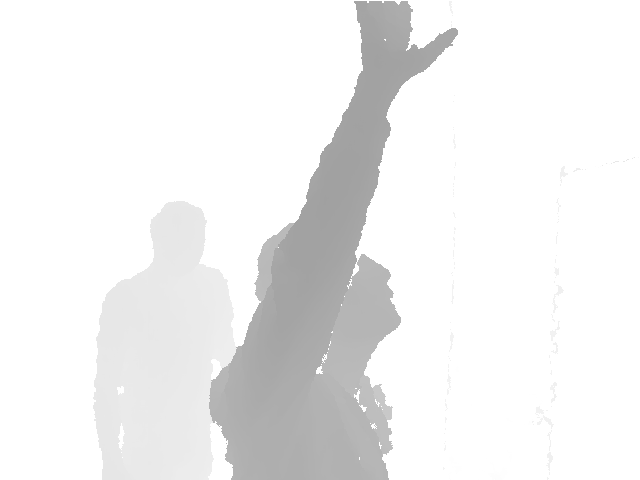hand: (354, 1, 459, 89)
head: (256, 218, 403, 372), (149, 202, 207, 274)
person: (209, 1, 459, 480), (91, 201, 237, 480)
